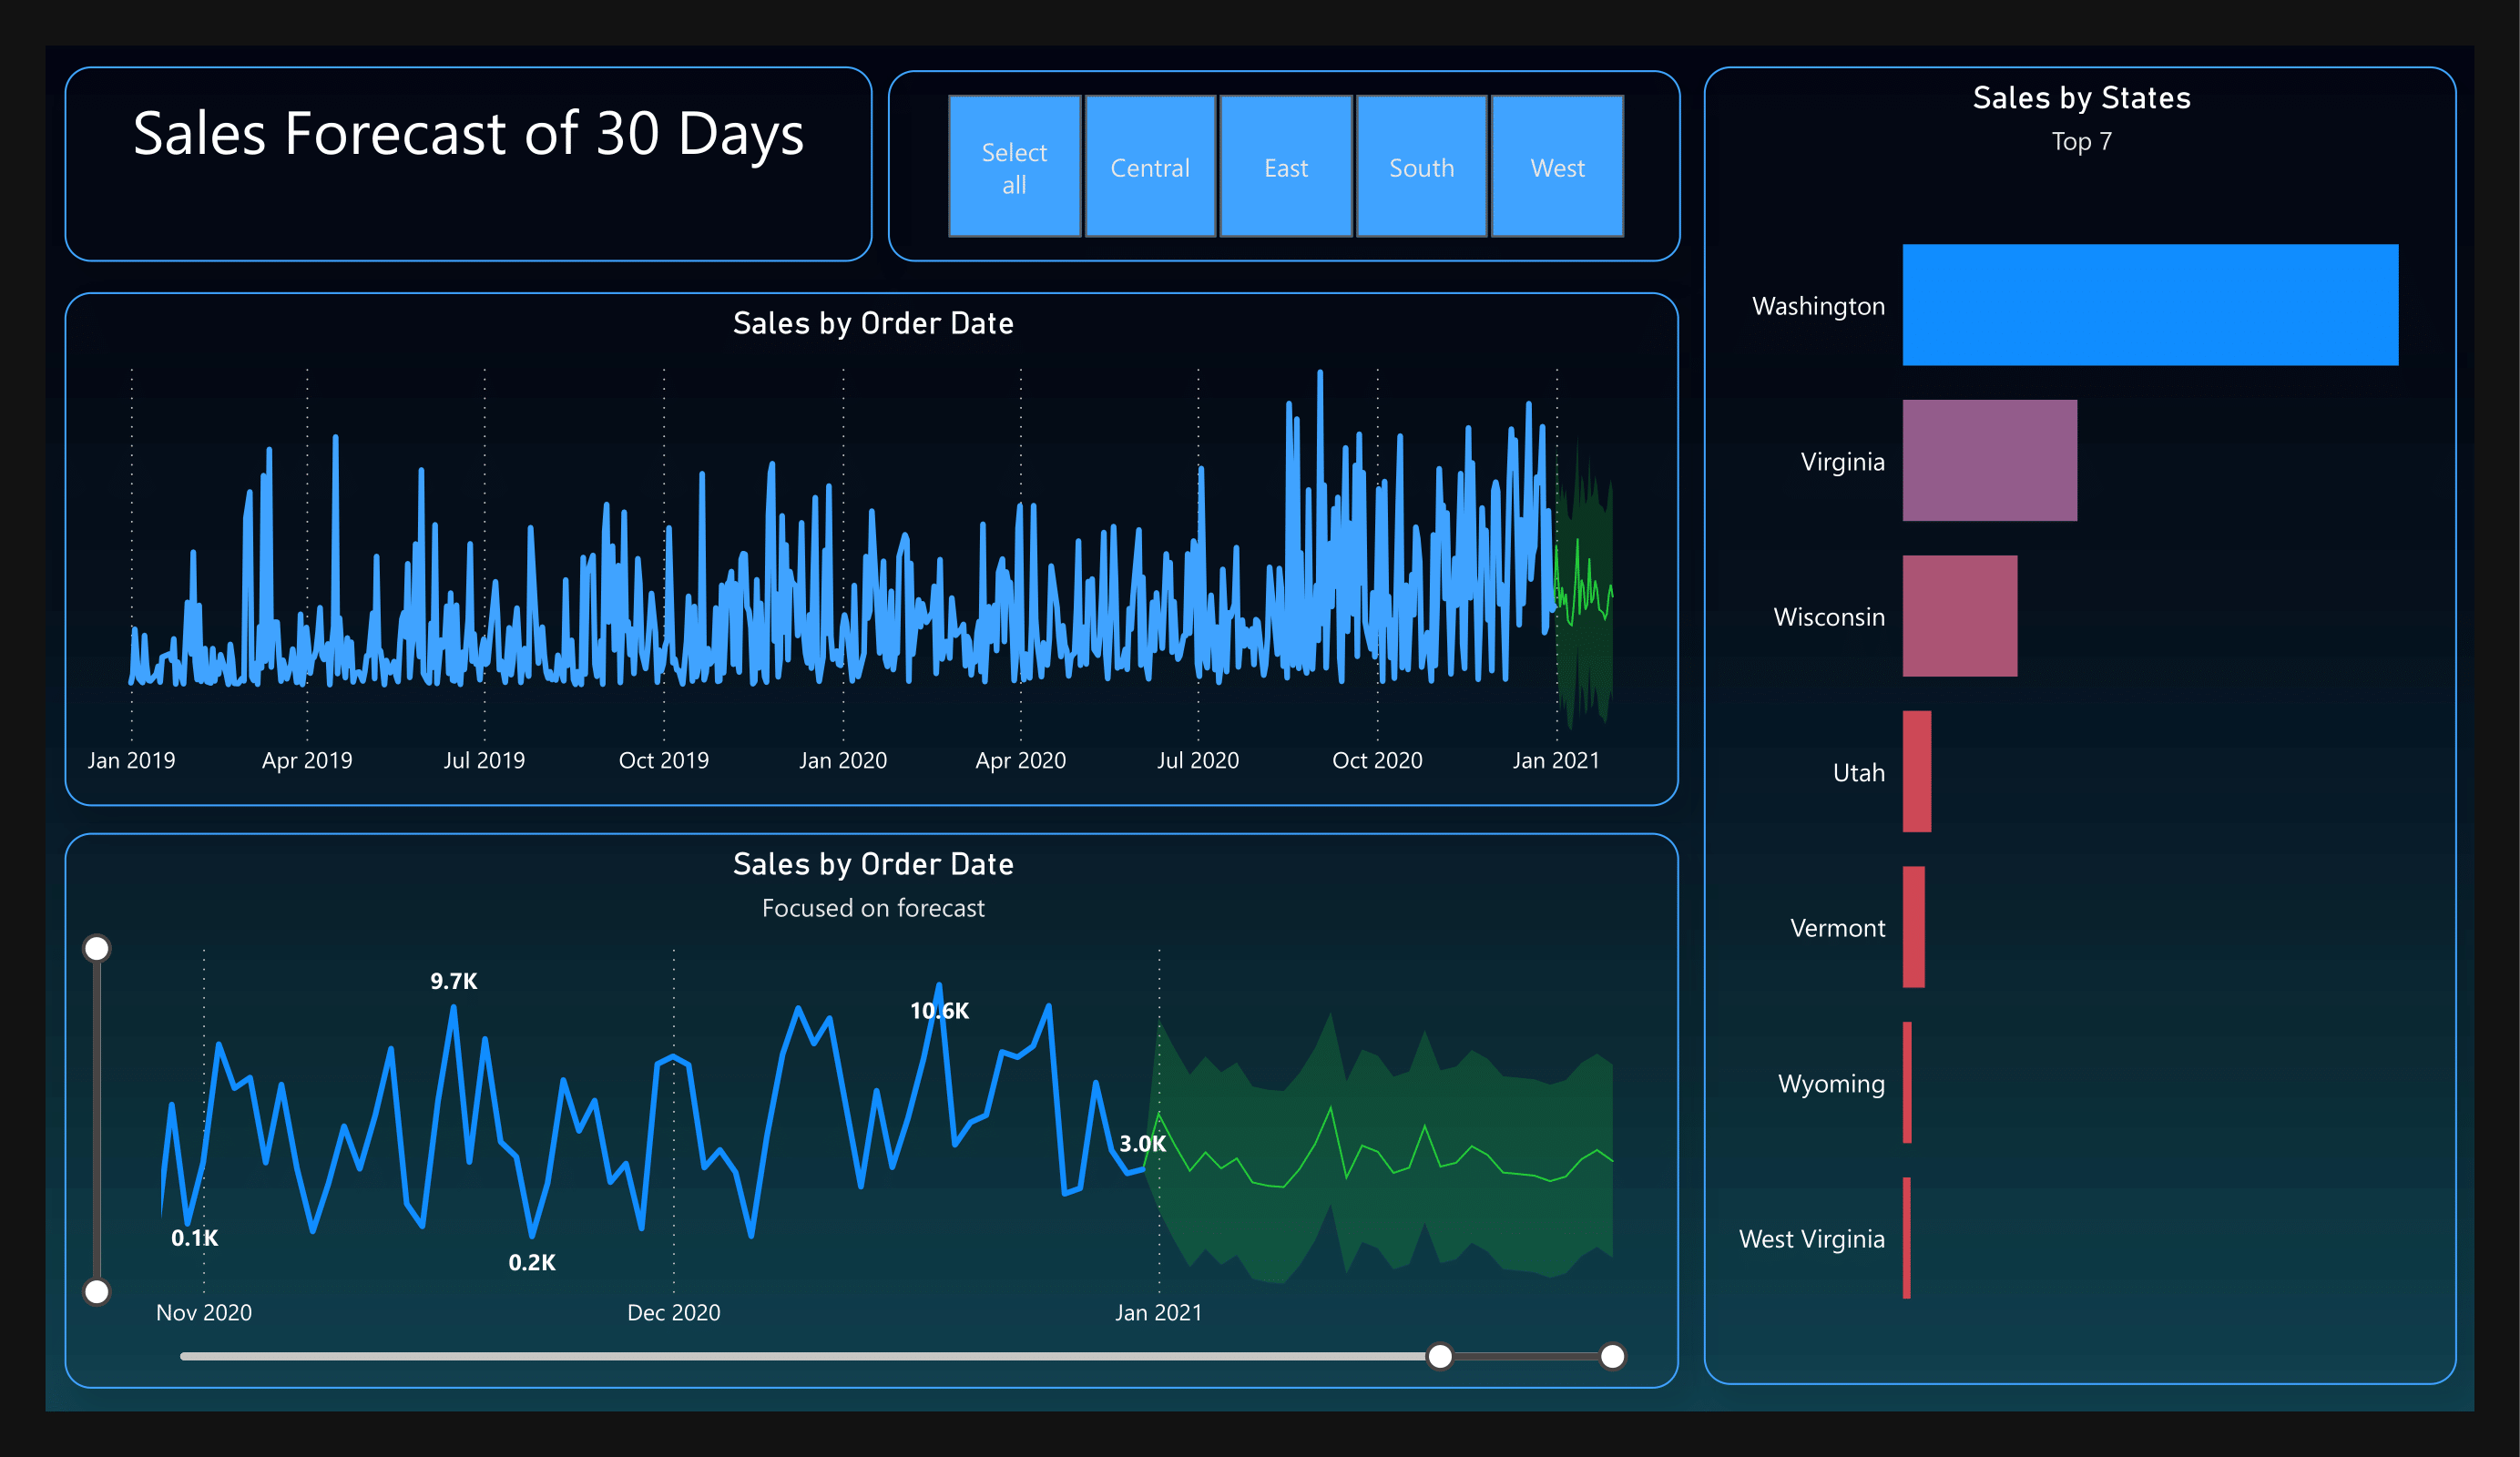

The page's visual inventory and layout, read from the dashboard file:
{"tool":"powerbi","page":{"name":"Page 2","canvas":[1280,720],"ordinal":1},"visuals":[{"type":"lineChart","title":"Sales by Order Date","fields":{"Y":["Sum(SuperStore_Sales_Dataset.Sales)"],"Category":["SuperStore_Sales_Dataset.Order Date"]},"box":[10,130,851.2,271.2],"z":0},{"type":"lineChart","title":"Sales by Order Date","fields":{"Y":["Sum(SuperStore_Sales_Dataset.Sales)"],"Category":["SuperStore_Sales_Dataset.Order Date"]},"box":[10,415,851.2,292.5],"z":1000},{"type":"clusteredBarChart","title":"Sales by States","fields":{"Y":["Sum(SuperStore_Sales_Dataset.Sales)"],"Category":["SuperStore_Sales_Dataset.State"]},"box":[873.8,11.2,397.5,695],"z":2000},{"type":"textbox","box":[10,11.1,425.6,103.3],"z":3000},{"type":"slicer","fields":{"Values":["SuperStore_Sales_Dataset.Region"]},"box":[444.4,13.3,417.8,101.1],"z":4000}]}

Visuals, with their boxes in screenshot pixels (x1, y1, x2, y2):
"Sales by Order Date" lineChart: [65,292,1679,807]
"Sales by Order Date" lineChart: [65,833,1679,1388]
"Sales by States" clusteredBarChart: [1704,66,2458,1385]
textbox: [65,66,872,262]
slicer - SuperStore_Sales_Dataset.Region: [889,71,1681,262]
